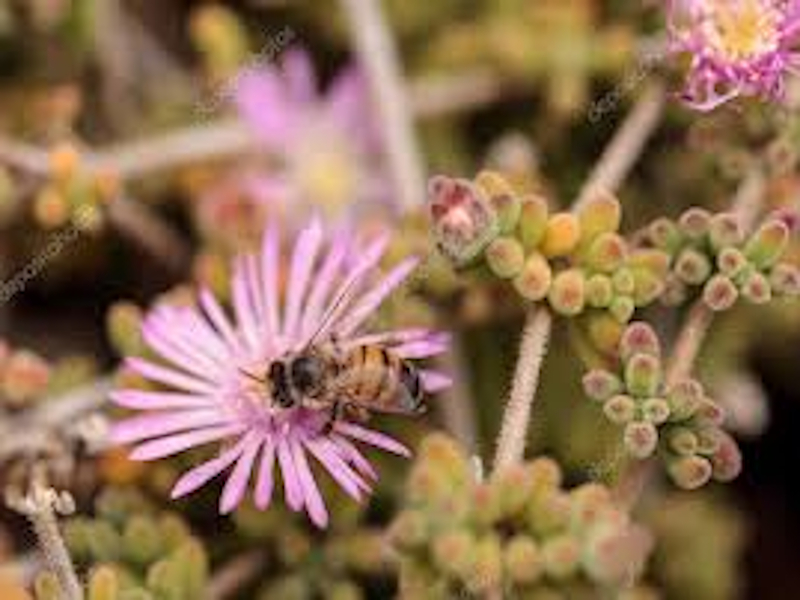abeja: (225, 302, 451, 451)
